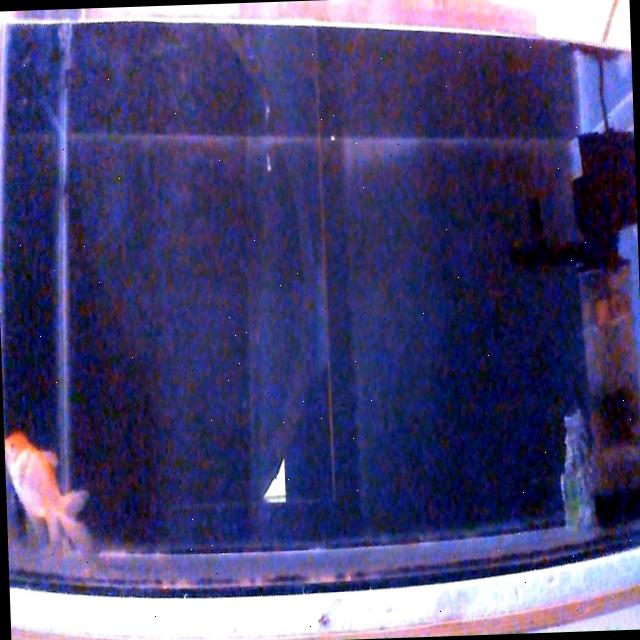fish: (5, 426, 90, 555)
